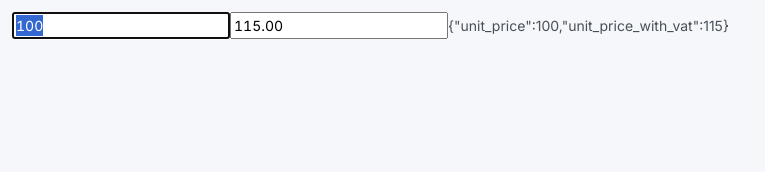
Test: PriceInput › typing a without-VAT price fills the with-VAT price immediately
Replace the text in the field with test id "ex" with "8.7" at (121, 26), box left=12, top=12, right=230, bottom=39
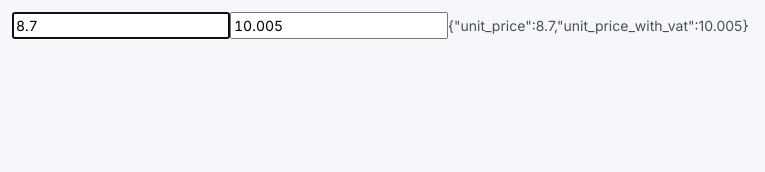
Now the field with test id "inc" holds "10.005", box left=230, top=12, right=448, bottom=39
